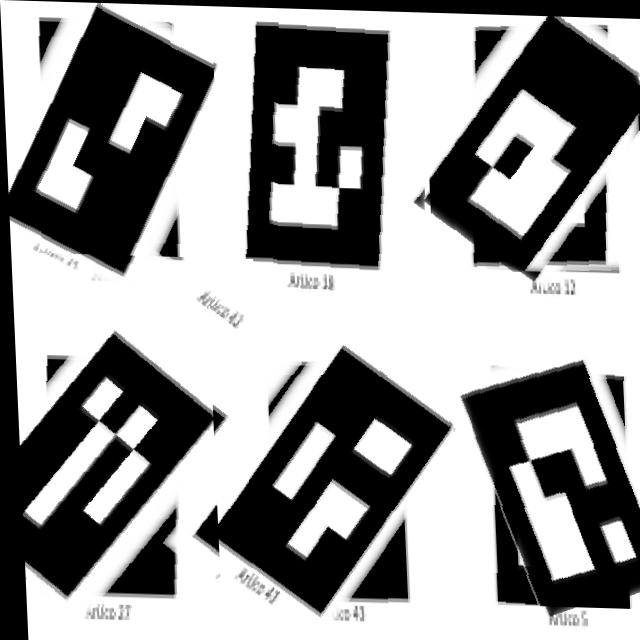aruco: (9, 252, 264, 626), (205, 305, 458, 638), (211, 5, 436, 304), (0, 0, 230, 289), (422, 10, 640, 276), (465, 332, 640, 606)
